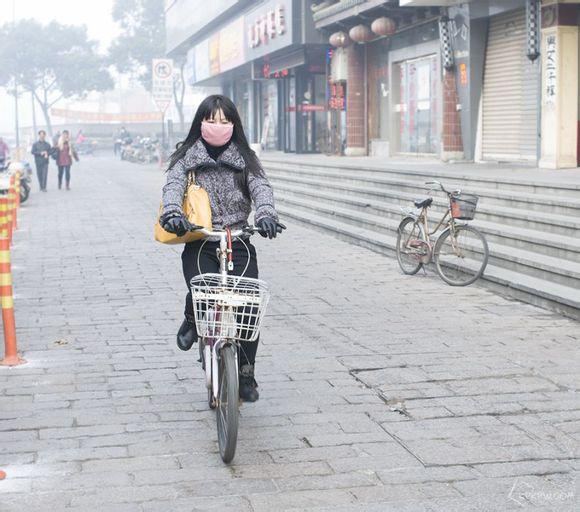OK: (201, 116, 235, 148)
